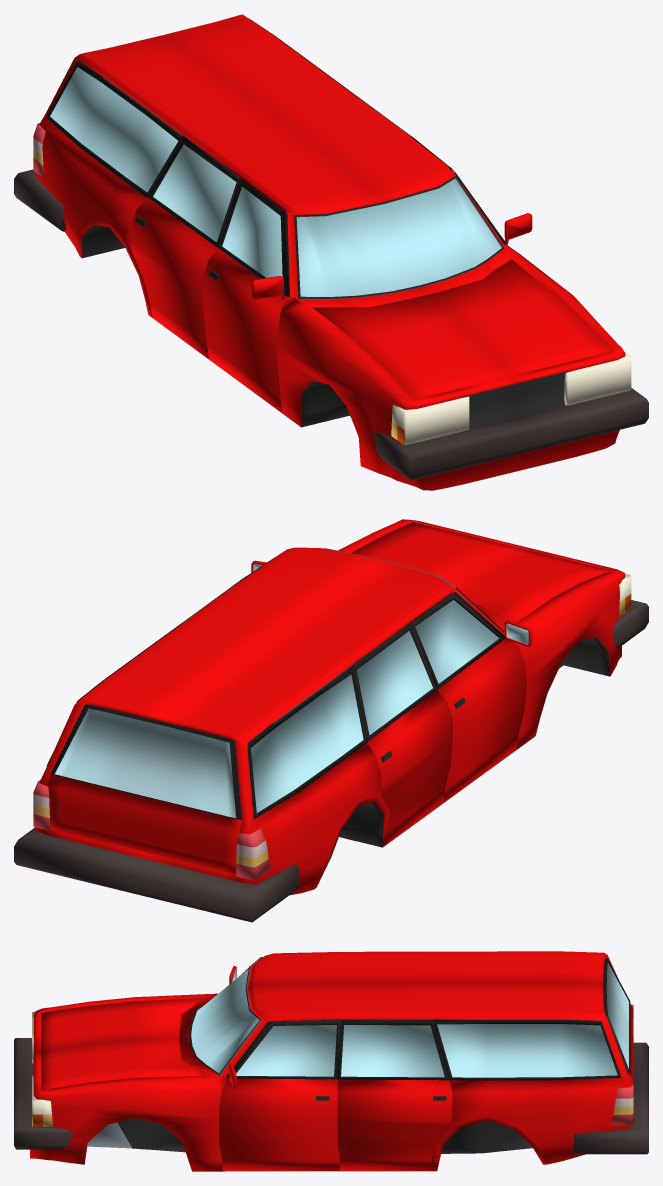
The model's file is Brick.fbx.
3 views of the same model, one above another, from view 1: azimuth 30°, elevation 25°; view 2: azimuth 150°, elevation 25°; view 3: azimuth 270°, elevation 25° (orthographic). The views are drawn at different scales.
Parts seen in each view (by area): view 1: Chassi, Hood, Door_FR, Door_RR; view 2: Chassi, Trunk, Door_FR, Door_RR, Hood; view 3: Chassi, Door_FL, Door_RL, Hood, Trunk.
Part boxes in pixels (x1=…): Chassi: x1=14, y1=14, x2=648, y2=490; Hood: x1=313, y1=259, x2=611, y2=399; Door_FR: x1=203, y1=178, x2=286, y2=412; Door_RR: x1=131, y1=135, x2=240, y2=359; Chassi: x1=14, y1=519, x2=648, y2=922; Trunk: x1=47, y1=704, x2=241, y2=873; Door_FR: x1=410, y1=593, x2=532, y2=802; Door_RR: x1=353, y1=622, x2=452, y2=843; Hood: x1=351, y1=522, x2=611, y2=622; Chassi: x1=14, y1=951, x2=648, y2=1171; Door_FL: x1=219, y1=1020, x2=340, y2=1171; Door_RL: x1=337, y1=1019, x2=452, y2=1171; Hood: x1=41, y1=998, x2=201, y2=1090; Trunk: x1=603, y1=957, x2=633, y2=1082.
Bounding box in the file's own units: 2.13 × 1.31 × 5.23.
